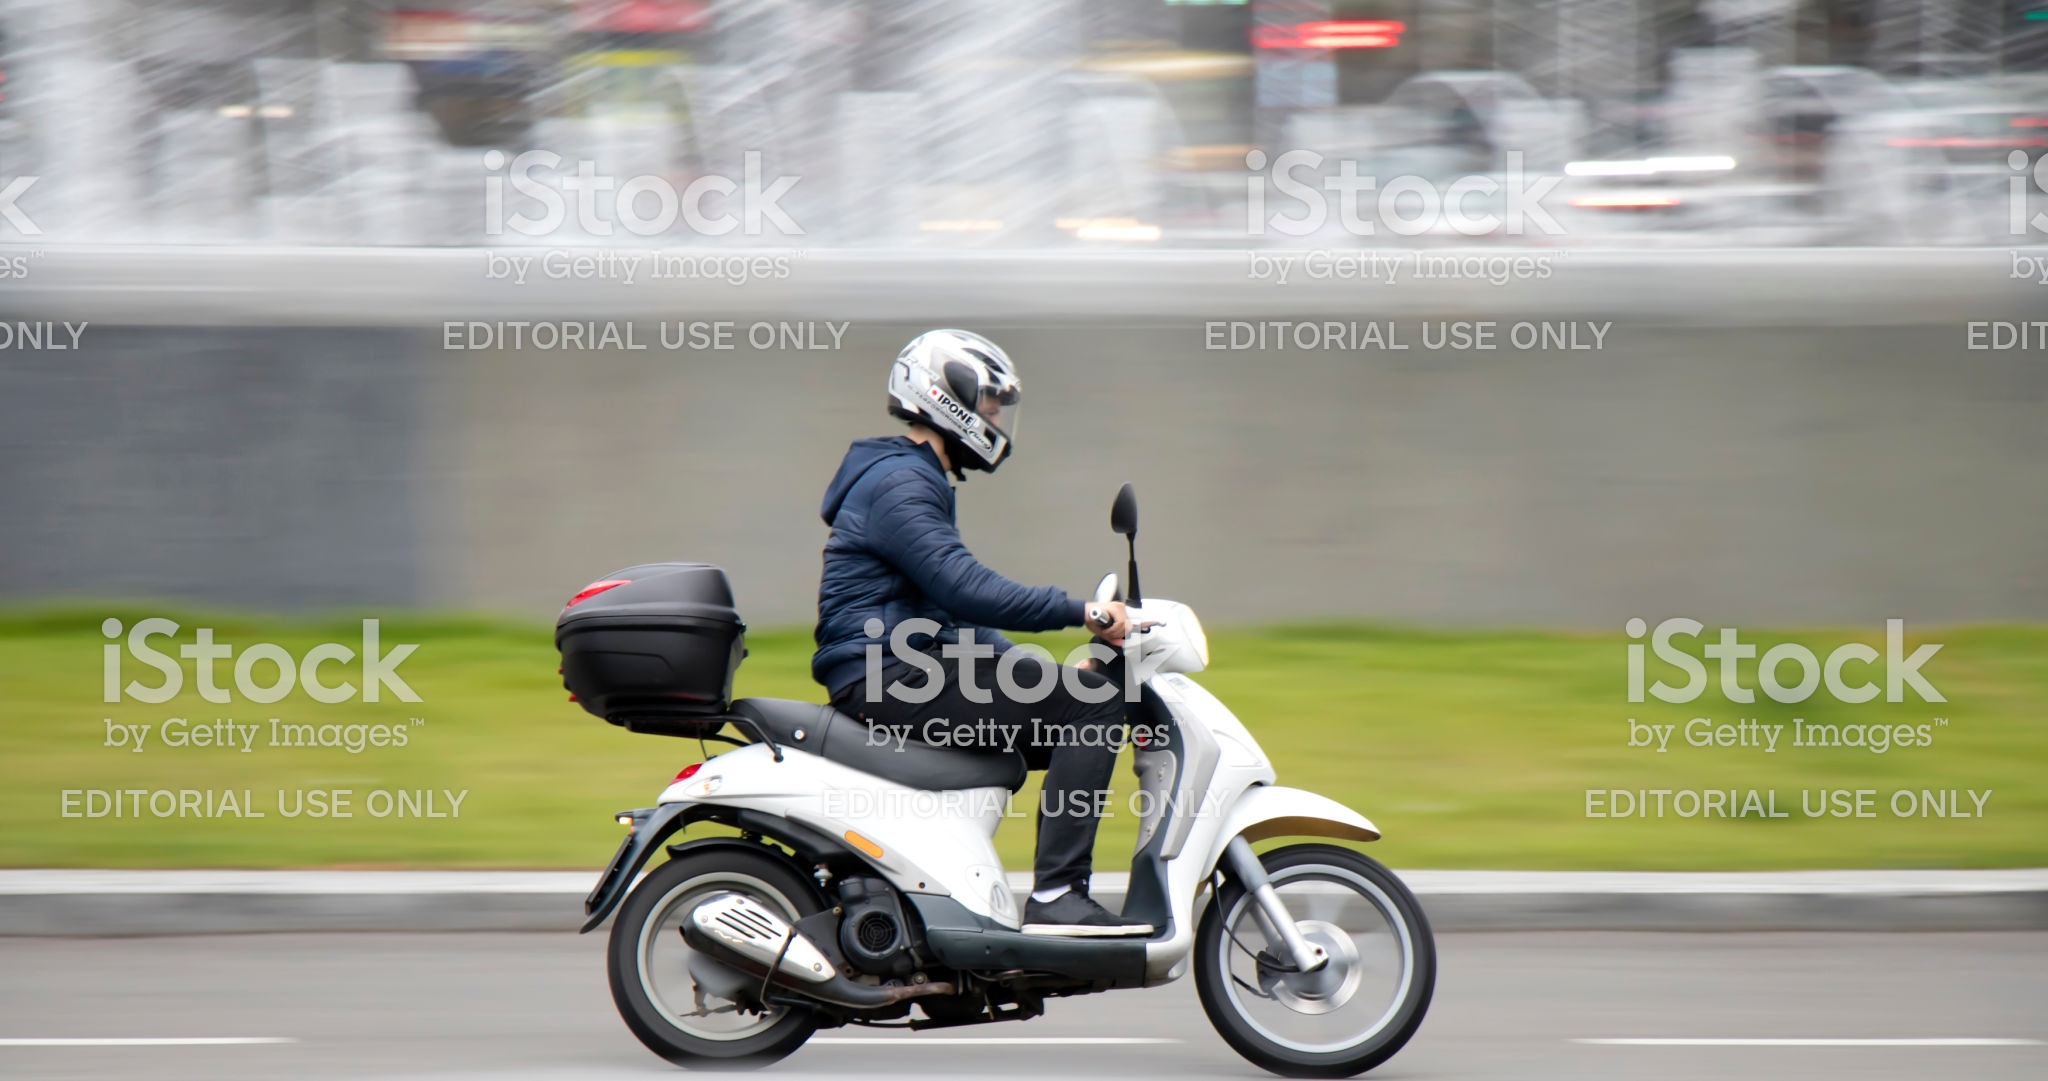helmet: (856, 318, 1046, 461)
